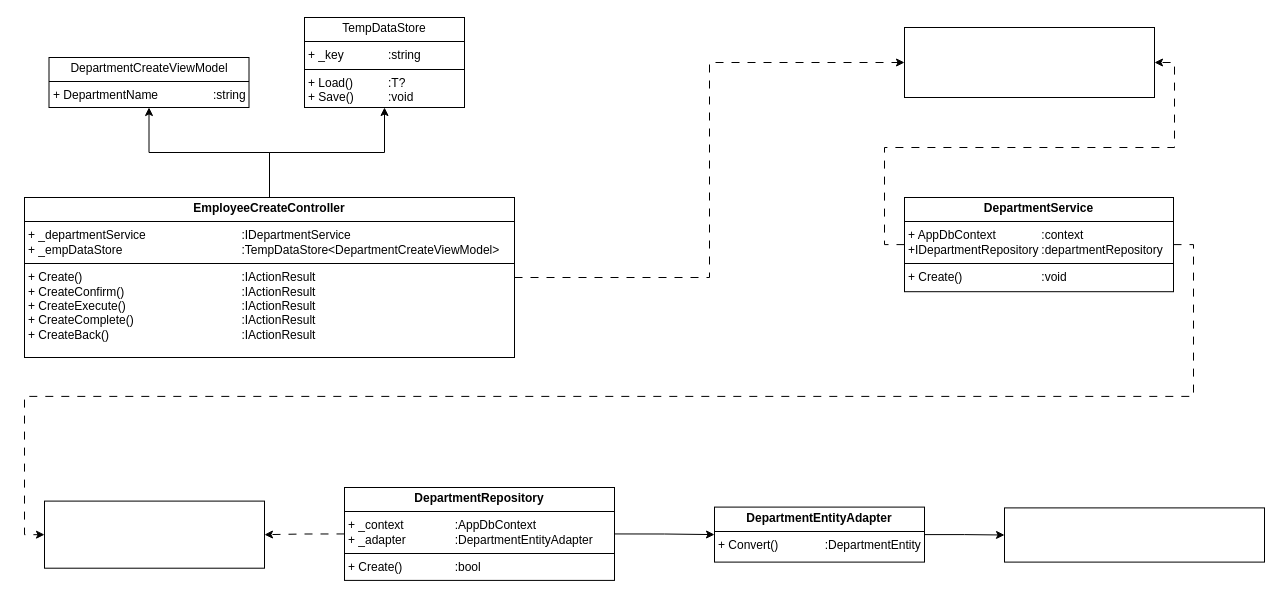
The diagram is 1282 pixels wide and 598 high, and some of its shapes have lost their labels. The centre of each missing label's shape, as x and y in pixels:
<<Interface>> IDepartmentRepository + Create () :bool: the point at 154,534
<<Interface>> IDepartmentService + Create() :void: the point at 1029,62
AppDbContext + Departments :DbSet<DepartmentEntity>: the point at 1134,534
